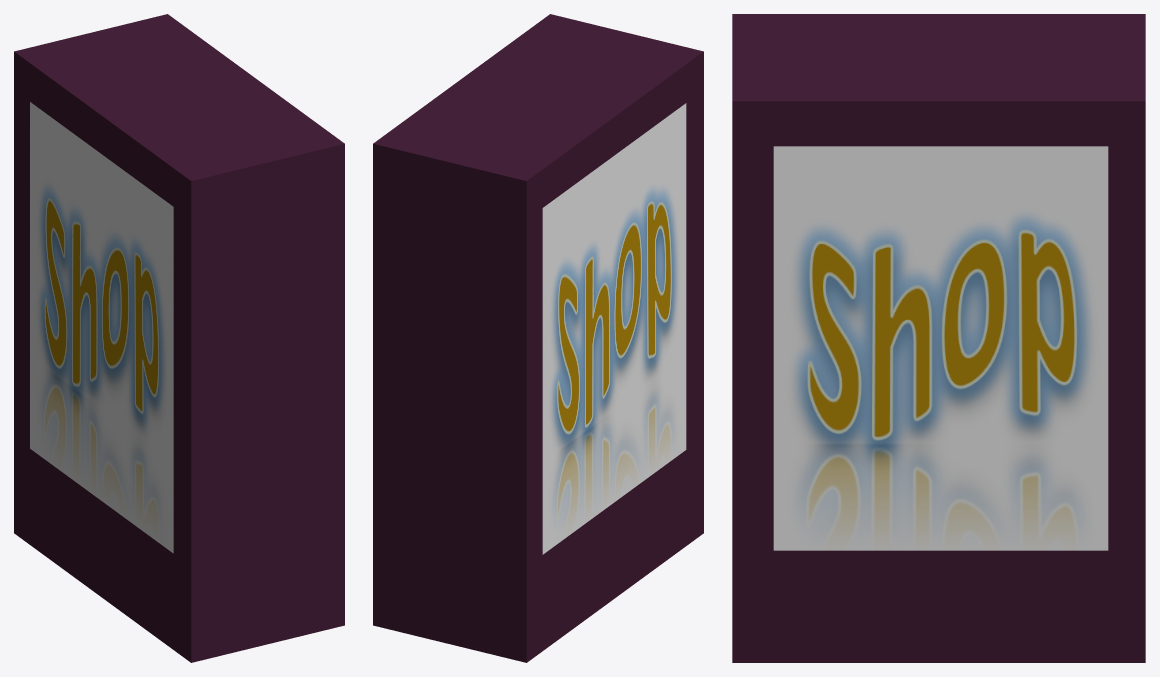
Rendered from shop.fbx.
3 views of the same model, side by side, from view 1: azimuth 30°, elevation 25°; view 2: azimuth 150°, elevation 25°; view 3: azimuth 270°, elevation 25° (orthographic). The views are drawn at different scales.
Parts seen in each view (by area): view 1: Shop; view 2: Shop; view 3: Shop.
Boxes of the visible parts, bbox=[...] form: Shop: bbox=[14, 14, 344, 662]; Shop: bbox=[373, 14, 703, 662]; Shop: bbox=[732, 14, 1145, 662].
Bounding box in the file's own units: 100 × 300 × 200.
Materials: 2 (1 with a texture image).
